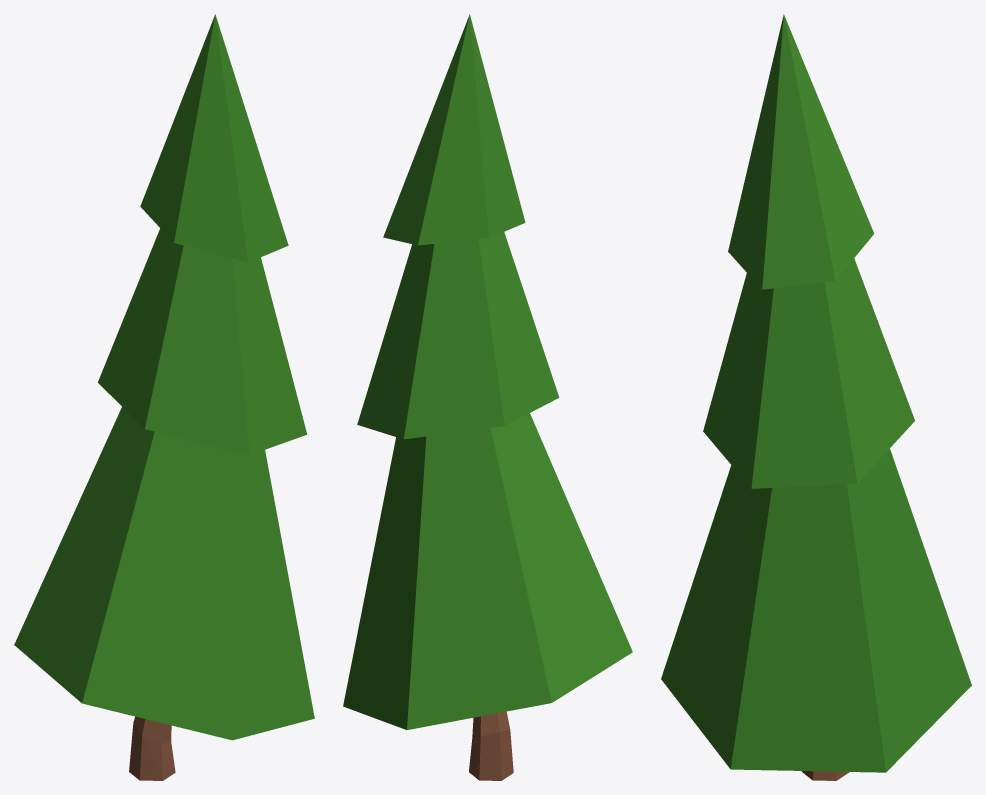
Rendered from TreePine03.glb.
The picture shows the model from 3 angles, left to right: view 1: azimuth 30°, elevation 25°; view 2: azimuth 150°, elevation 25°; view 3: azimuth 270°, elevation 25°; orthographic projection. The views are drawn at different scales.
Parts seen in each view (by area): view 1: Pine_Tree_03; view 2: Pine_Tree_03; view 3: Pine_Tree_03.
Boxes of the visible parts, bbox=[...] form: Pine_Tree_03: bbox=[14, 14, 314, 780]; Pine_Tree_03: bbox=[343, 14, 632, 780]; Pine_Tree_03: bbox=[661, 14, 971, 780].
Size of the model in its own units: 13.09 by 40.93 by 14.8.
1 material, 1 textured.
